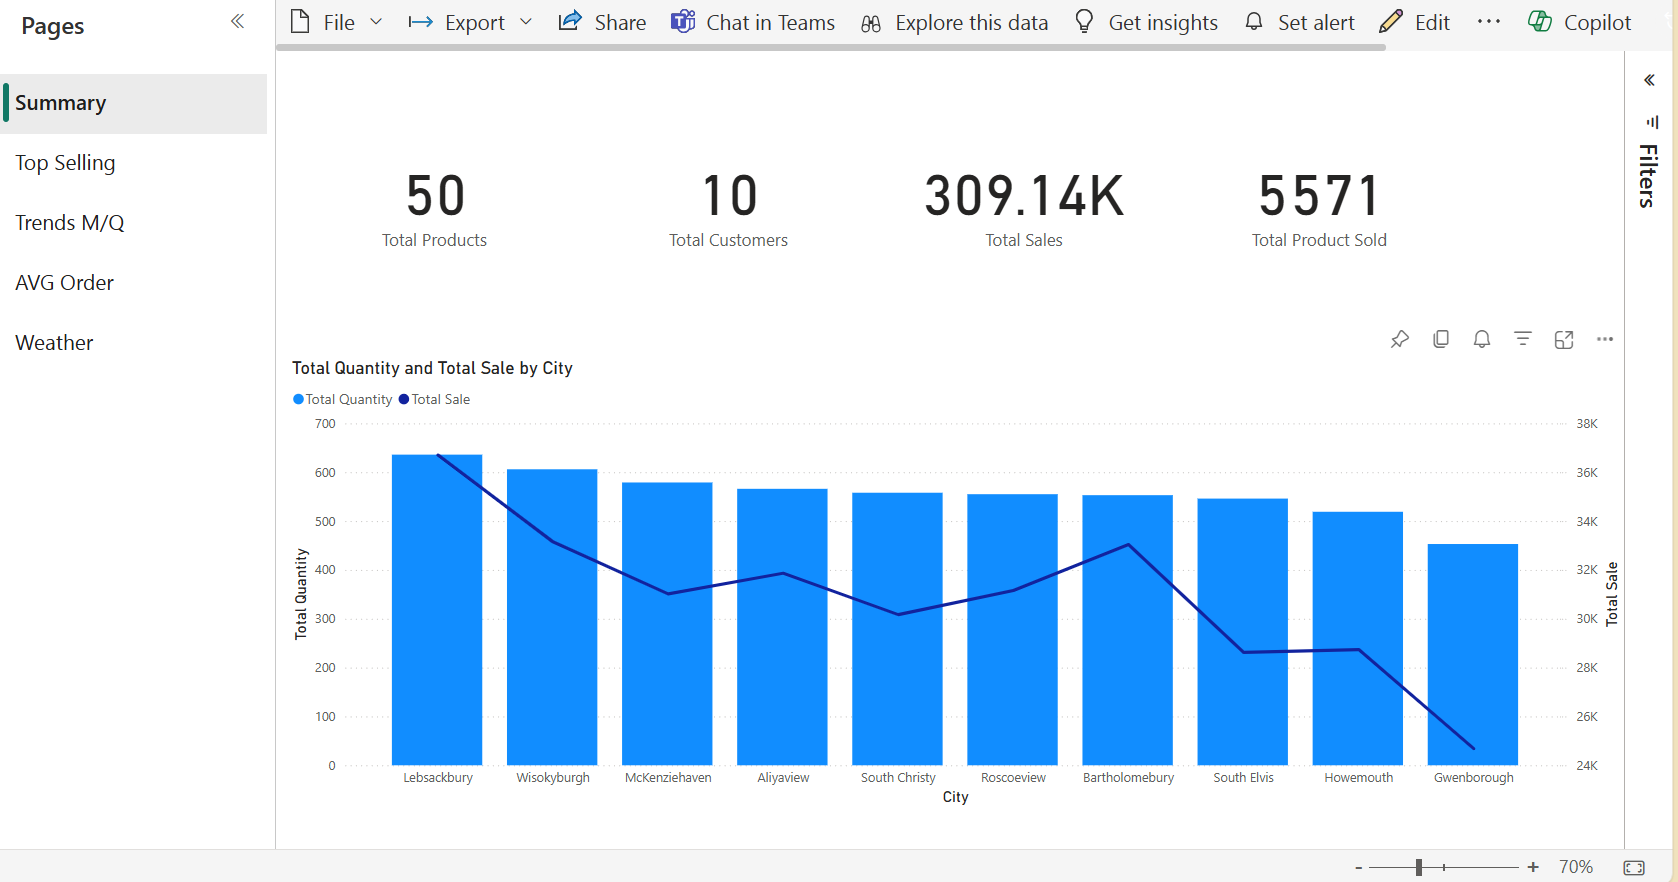

The page's visual inventory and layout, read from the dashboard file:
{"tool":"powerbi","page":{"name":"Summary","canvas":[1280,720],"ordinal":0},"visuals":[{"type":"card","fields":{"Values":["CountNonNull(pipelines_data gold_avg_order_quantity_per_product.product_id)"]},"box":[10,0,280,280],"z":0},{"type":"card","fields":{"Values":["CountNonNull(pipelines_data gold_total_sales_by_customer.customer_id)"]},"box":[289.4,0,280.2,280.2],"z":1},{"type":"card","fields":{"Values":["Sum(pipelines_data gold_total_sales_by_customer.total_sales)"]},"box":[569.6,0,280.2,280.2],"z":2},{"type":"card","fields":{"Values":["Sum(gold_sales_trends_quarterly.quantity)"]},"box":[849.9,0,280.2,280.2],"z":3},{"type":"lineStackedColumnComboChart","fields":{"Category":["bronze_customers.address_city"],"Y":["Sum(silver_sales.quantity)"],"Y2":["Sum(silver_sales.order_sale)"]},"box":[9.4,289.9,1270,430.2],"z":4}]}

Visuals, with their boxes on the page's 1280x720 design canvas (x1, y1, x2, y2). These are canvas units, not pixel positions in the 1678x882 screenshot, which may show the page scaled, cropped or inside an application window:
card - CountNonNull(pipelines_data gold_avg_order_quantity_per_product.product_id): locate(10, 0, 290, 280)
card - CountNonNull(pipelines_data gold_total_sales_by_customer.customer_id): locate(289, 0, 570, 280)
card - Sum(pipelines_data gold_total_sales_by_customer.total_sales): locate(570, 0, 850, 280)
card - Sum(gold_sales_trends_quarterly.quantity): locate(850, 0, 1130, 280)
lineStackedColumnComboChart - bronze_customers.address_city x Sum(silver_sales.quantity): locate(9, 290, 1279, 720)
